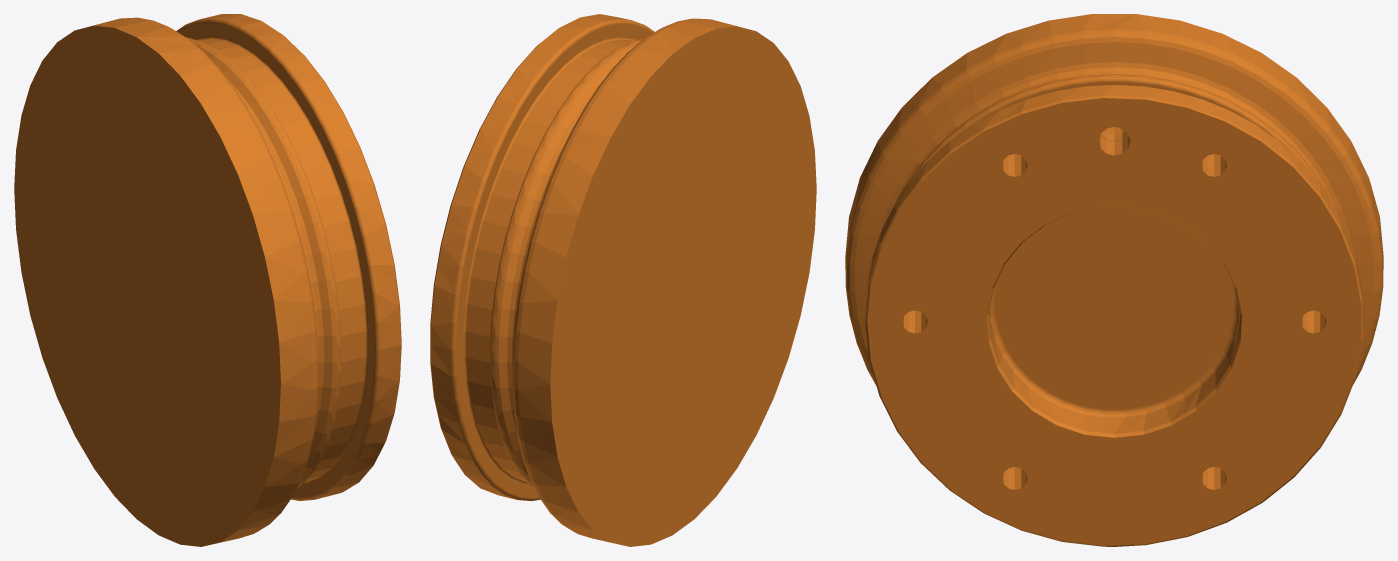
3 views of the same model, side by side, from view 1: azimuth 30°, elevation 25°; view 2: azimuth 150°, elevation 25°; view 3: azimuth 270°, elevation 25° (orthographic).
Visible parts, largest first — view 1: link_6; view 2: link_6; view 3: link_6.
Part boxes in pixels (x1,y1,x2,y2): link_6: (14, 14, 401, 546); link_6: (430, 14, 816, 546); link_6: (845, 14, 1383, 546).
Size of the model in its own units: 0.0384 by 0.135 by 0.135.
